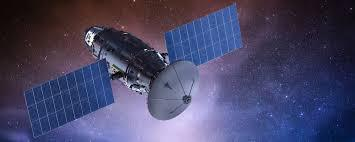antenna: (146, 58, 202, 122)
body: (81, 23, 169, 96)
solar: (22, 55, 117, 141), (162, 0, 245, 69)
